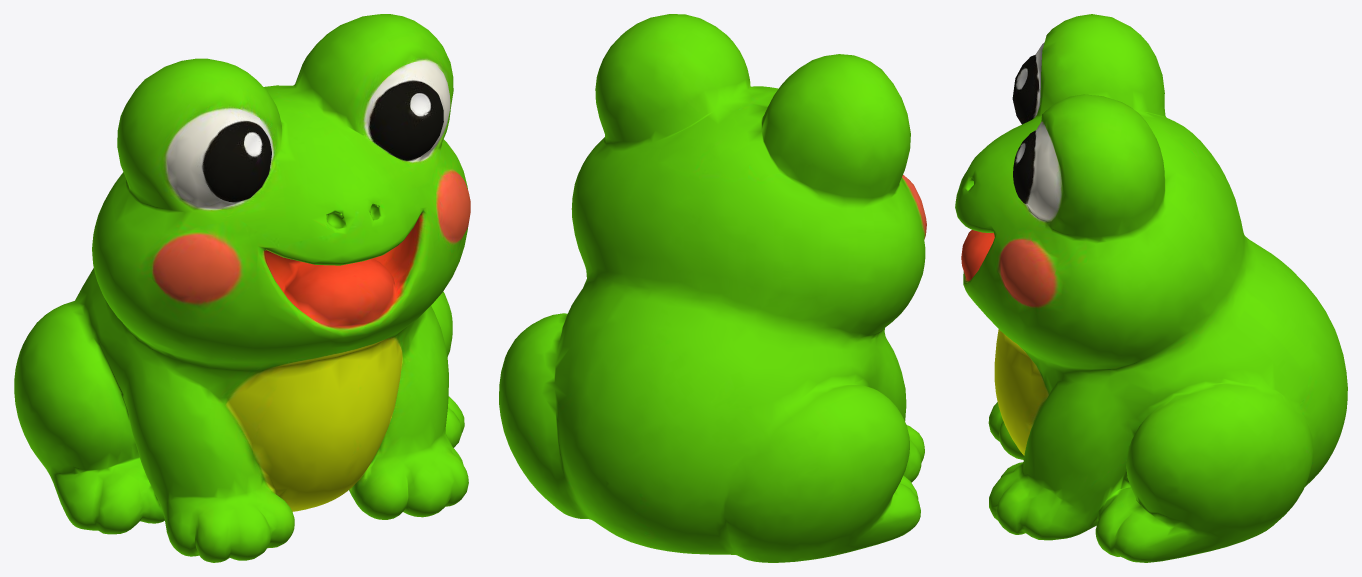
File: frog.glb
3 views of the same model, side by side, from view 1: azimuth 30°, elevation 25°; view 2: azimuth 150°, elevation 25°; view 3: azimuth 270°, elevation 25° (orthographic). The views are drawn at different scales.
Parts seen in each view (by area): view 1: tripo_node_3b81d17f-3229-45e6-a20b-d41ea2296380; view 2: tripo_node_3b81d17f-3229-45e6-a20b-d41ea2296380; view 3: tripo_node_3b81d17f-3229-45e6-a20b-d41ea2296380.
Part boxes in pixels (x1=…): tripo_node_3b81d17f-3229-45e6-a20b-d41ea2296380: x1=14, y1=14, x2=470, y2=562; tripo_node_3b81d17f-3229-45e6-a20b-d41ea2296380: x1=499, y1=14, x2=926, y2=562; tripo_node_3b81d17f-3229-45e6-a20b-d41ea2296380: x1=955, y1=14, x2=1347, y2=562.
Bounding box in the file's own units: 0.9116 × 0.9807 × 0.8271.
1 material, 1 textured.
